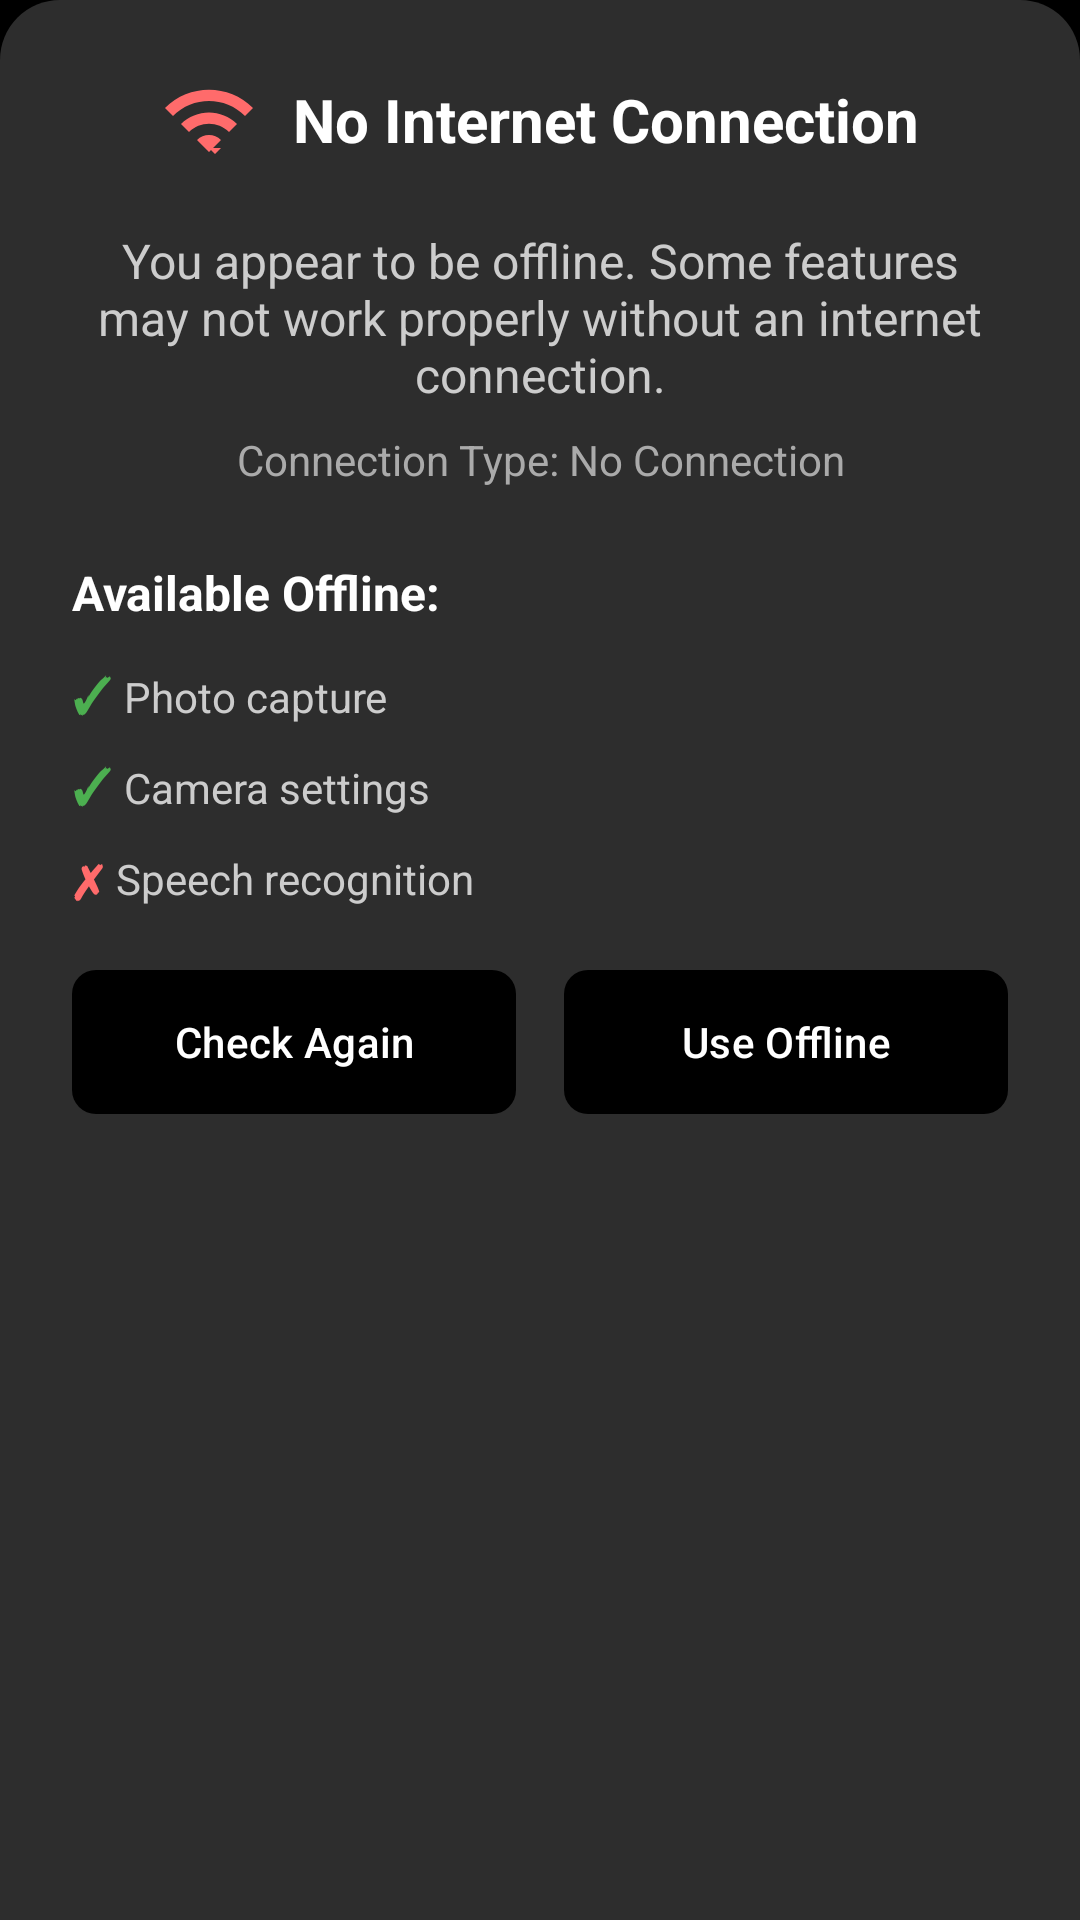

Locate icon controls on the screen. Image size 1080x1920, boxes as (x1,y1,x2,y2).
wifi off: (165,89,253,154)
